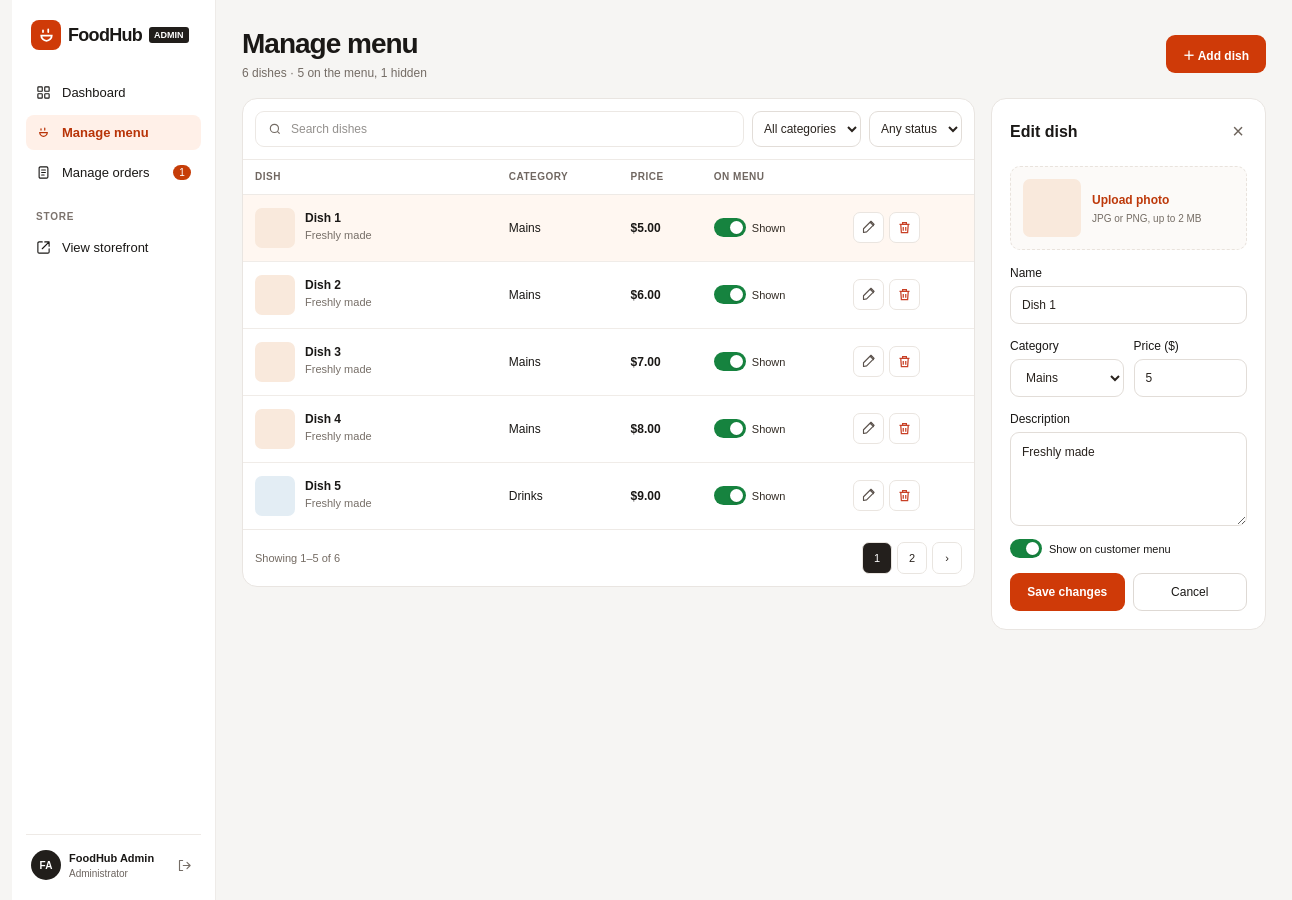
Test case: React administration › adds a dish and follows it onto its menu page
Expected: the heading "Manage menu" is shown, [242, 28, 427, 60]
Click the button "＋ Add dish" at (1216,54), box [1166, 35, 1266, 73]
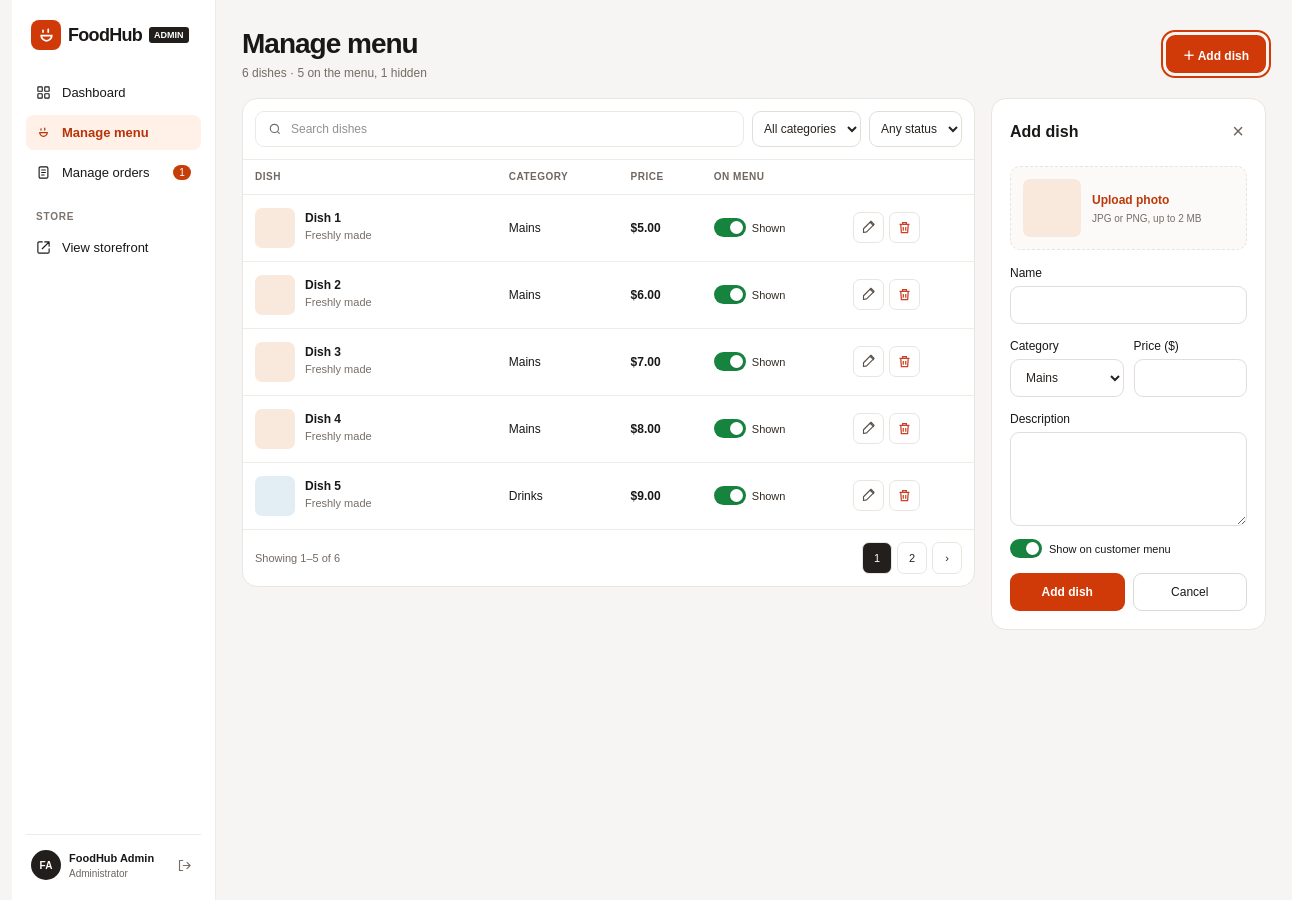
Type "New dish" into the field labelled "Name" at (1128,305), box [1010, 286, 1247, 324]
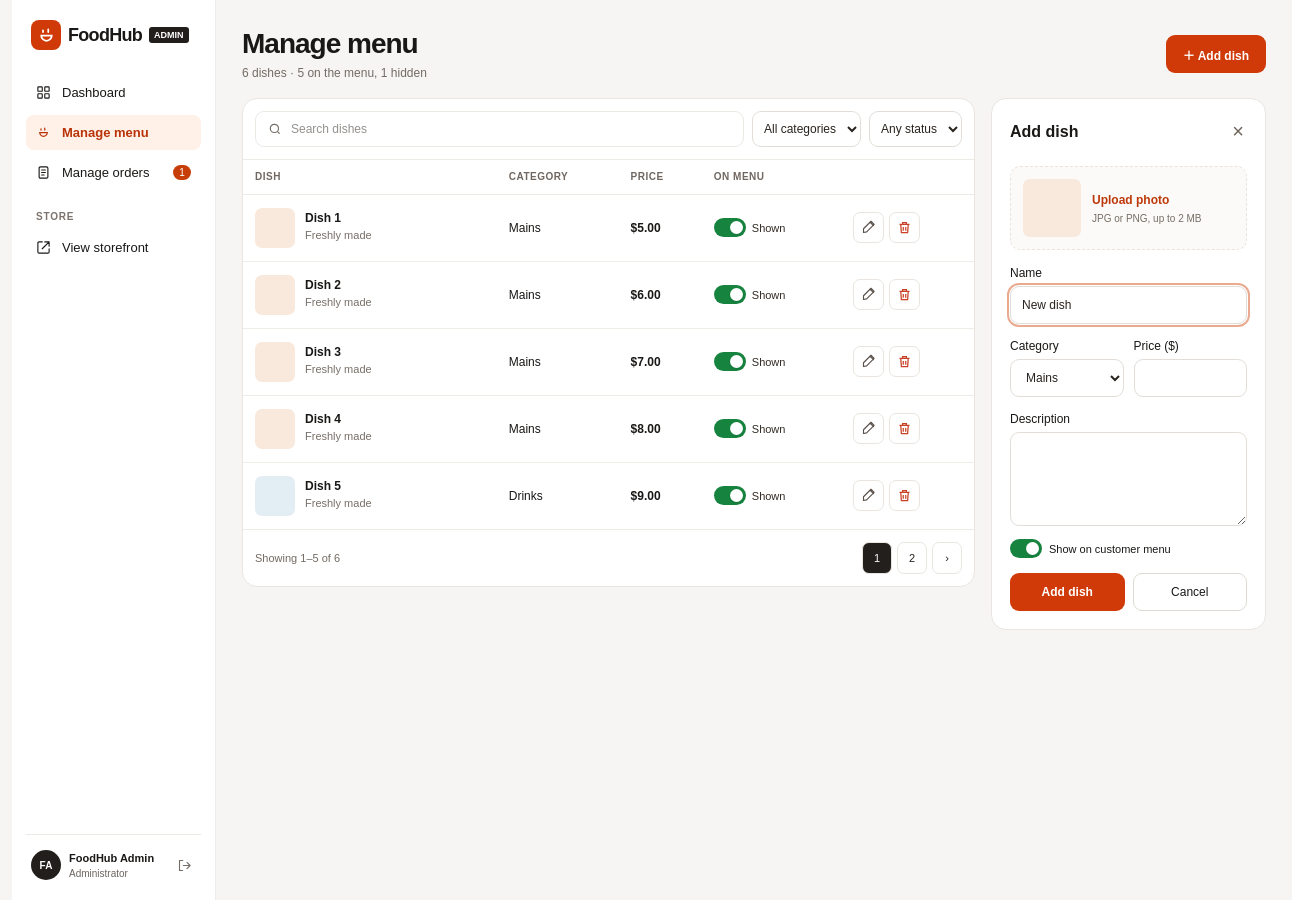
Type "7.50" into the number field labelled "Price ($)" at (1190,378), box [1134, 359, 1247, 397]
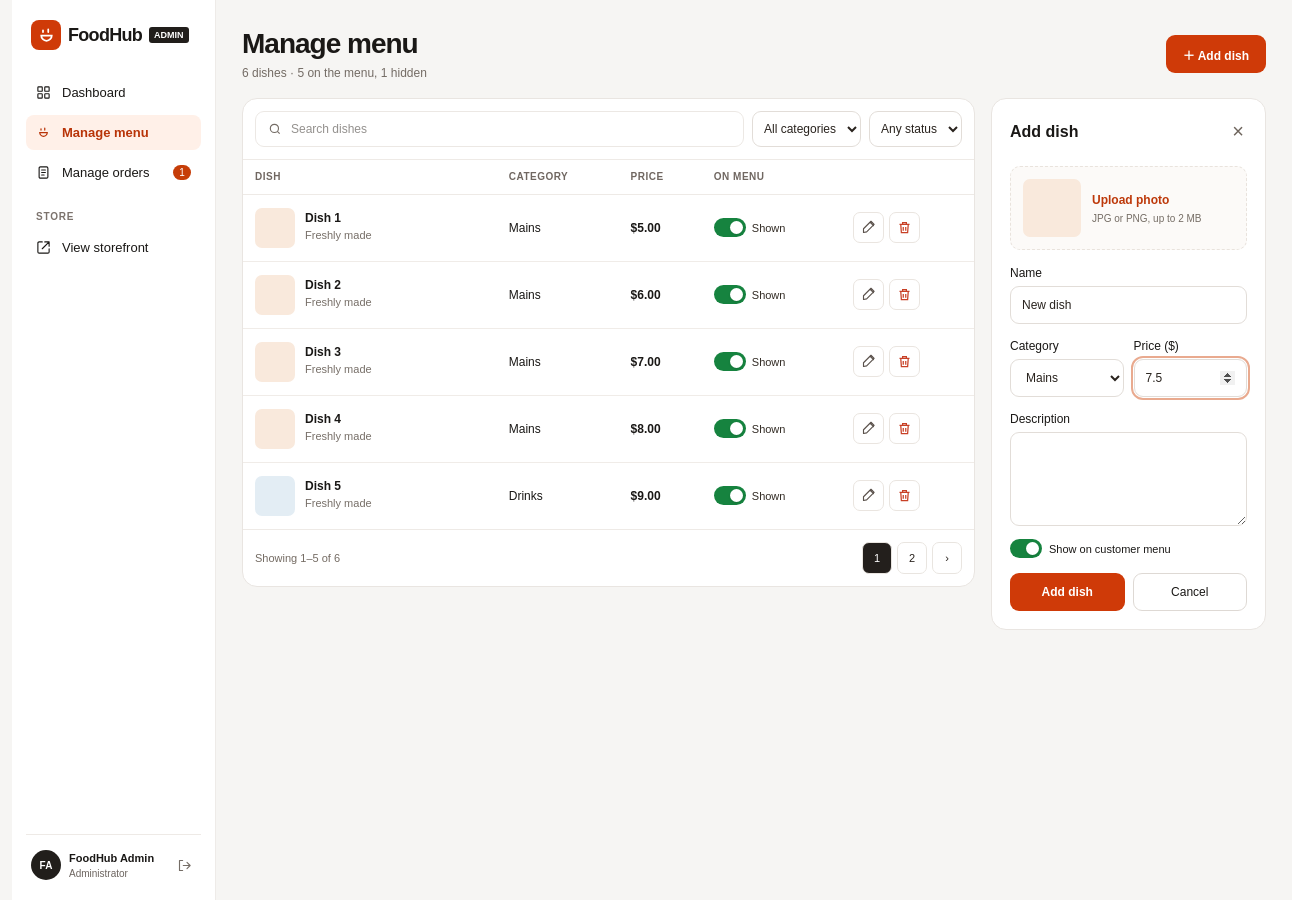
Click the button "Add dish" at (1067,592), box [1010, 573, 1124, 611]
(page scrolled)
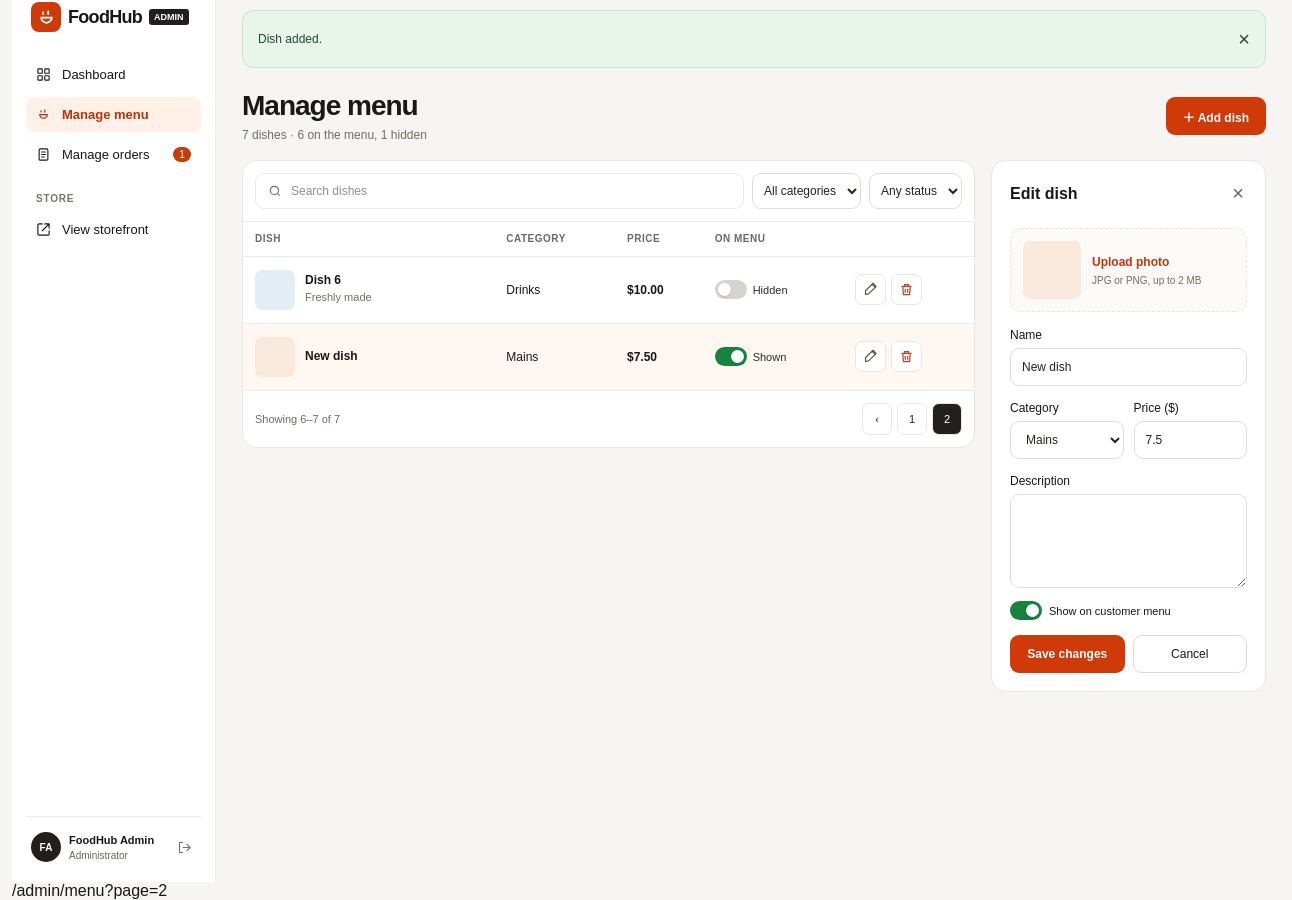
Now the text "Dish added." is shown, box [258, 32, 322, 46]
Now the text "New dish" is shown, box [305, 348, 358, 365]
Now the text with test id "where" shows "page=2", box [12, 882, 167, 899]
